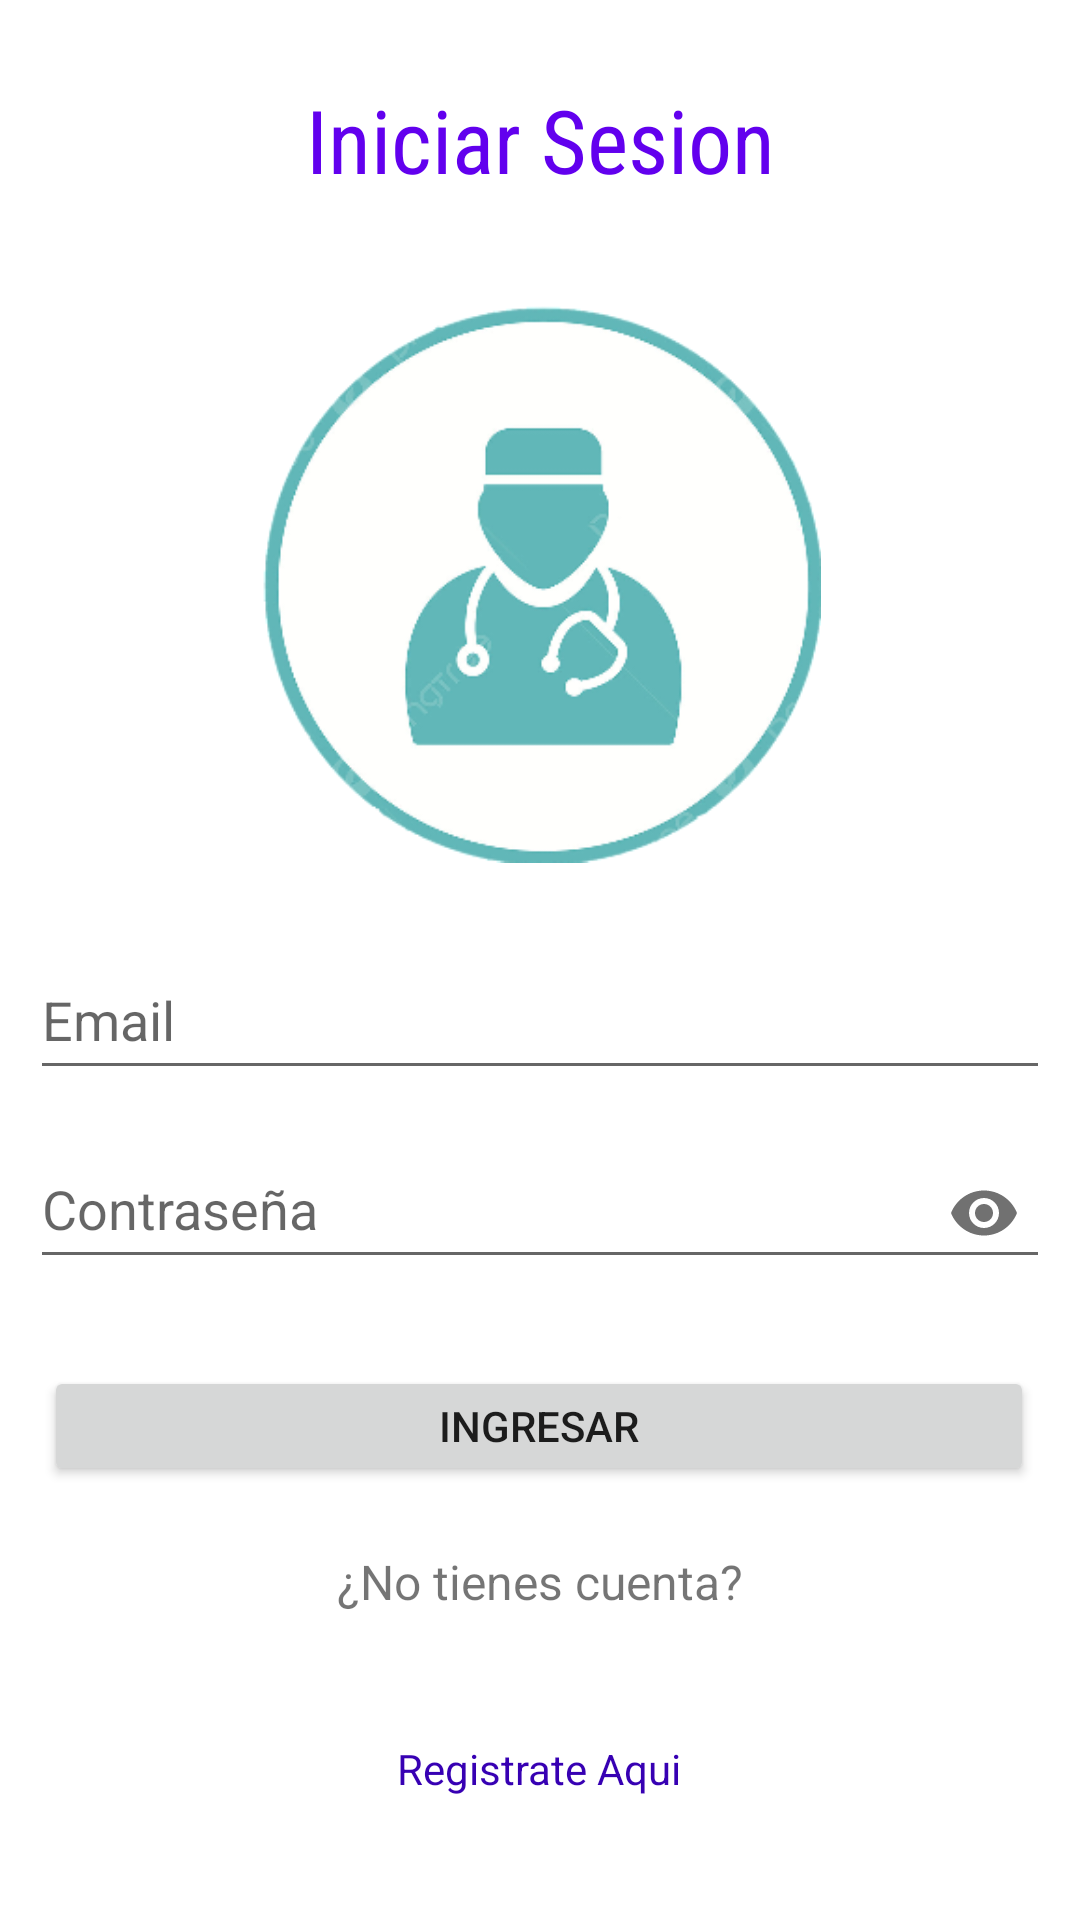

Screen size 1080w x 1920h. Icon name, then its box in pixels as detection(x1, y1, x2, y2):
open eye: detection(951, 1190, 1017, 1236)
